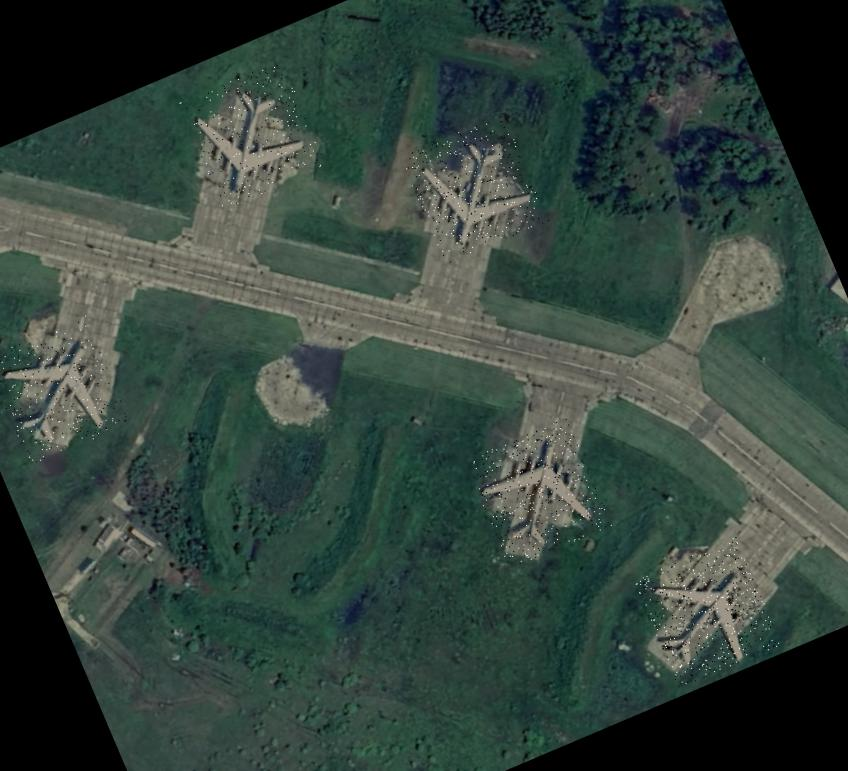A17: (632, 536, 782, 688), (178, 59, 327, 210), (464, 417, 612, 568), (400, 113, 548, 264), (0, 314, 131, 465)
